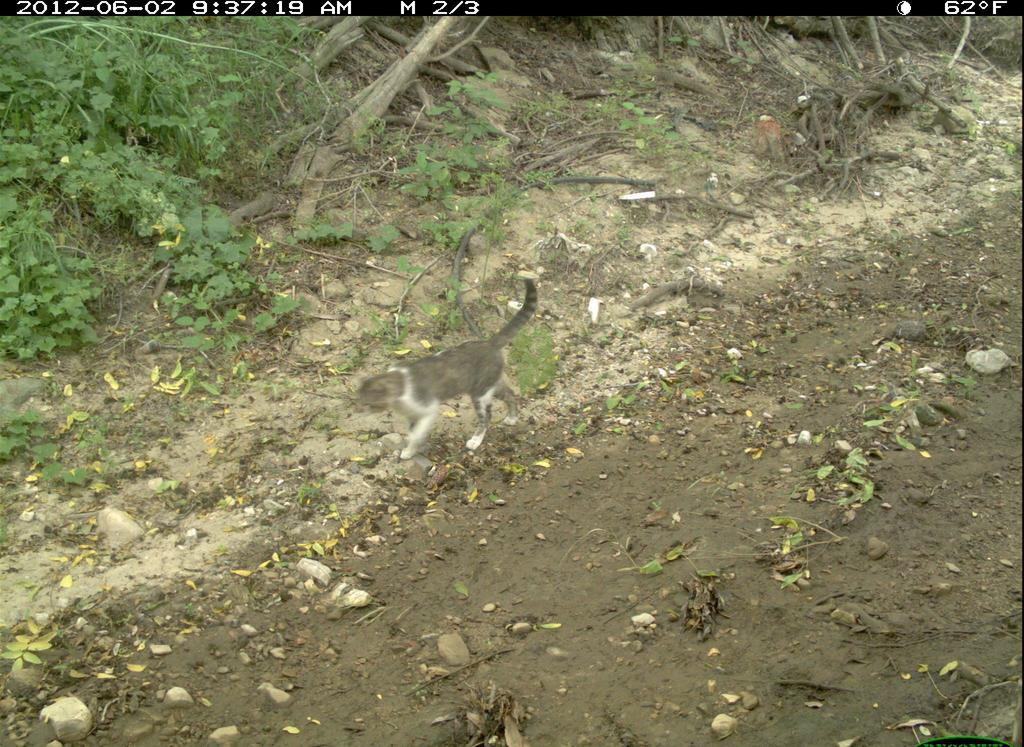cat: (355, 271, 575, 486)
